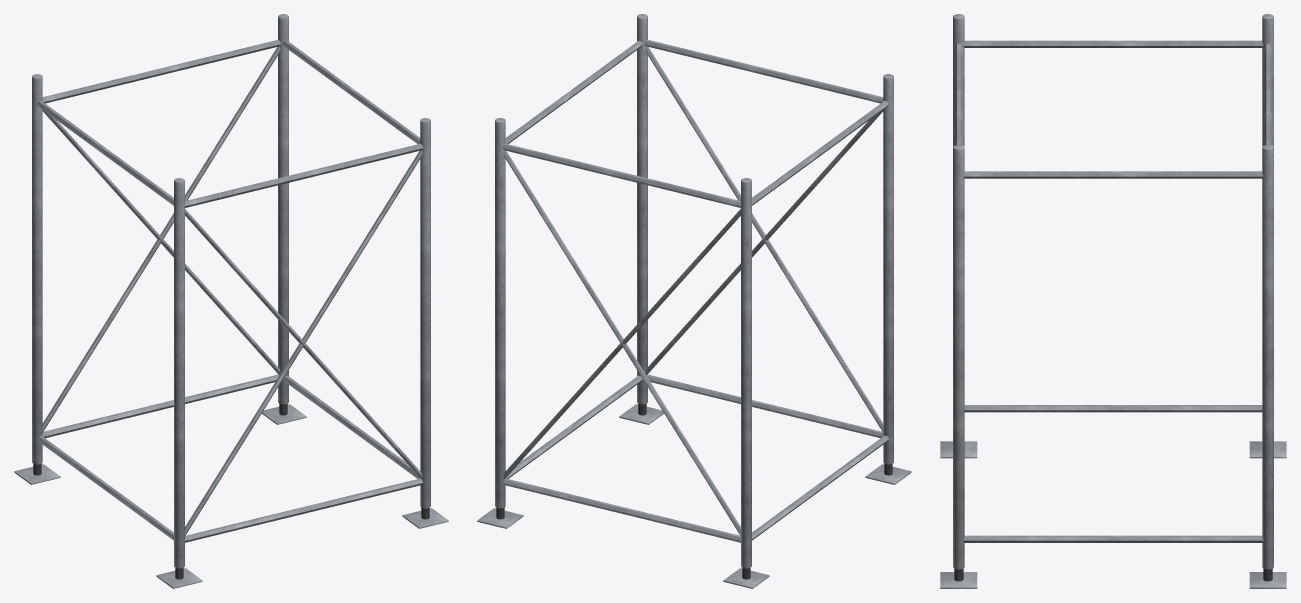
Rendered from EST-ESC-002.glb.
3 renders of one model, left to right at view 1: azimuth 30°, elevation 25°; view 2: azimuth 150°, elevation 25°; view 3: azimuth 270°, elevation 25°, orthographic. The views are drawn at different scales.
Visible parts, largest first — view 1: EST-ESC-002_mont, EST-ESC-002_mont.002, EST-ESC-002_mont.001, EST-ESC-002_mont.003, EST-ESC-002_diag, EST-ESC-002_diag.002, EST-ESC-002_diag.001, EST-ESC-002_trav.005, EST-ESC-002_trav.004, EST-ESC-002_trav, EST-ESC-002_diag.003, EST-ESC-002_trav.001 (+4 smaller); view 2: EST-ESC-002_mont.001, EST-ESC-002_mont.003, EST-ESC-002_mont, EST-ESC-002_mont.002, EST-ESC-002_diag.002, EST-ESC-002_diag, EST-ESC-002_diag.003, EST-ESC-002_trav.004, EST-ESC-002_trav.005, EST-ESC-002_trav.001, EST-ESC-002_diag.001, EST-ESC-002_trav (+4 smaller); view 3: EST-ESC-002_mont.002, EST-ESC-002_mont.003, EST-ESC-002_trav.007, EST-ESC-002_trav.003, EST-ESC-002_trav.006, EST-ESC-002_trav.002, EST-ESC-002_mont, EST-ESC-002_mont.001, EST-ESC-002_trav.004, EST-ESC-002_trav.005, EST-ESC-002_sapata.002, EST-ESC-002_sapata.003 (+2 smaller).
Boxes of the visible parts, left/top/right/bottom form: EST-ESC-002_mont: left=174, top=178, right=184, bottom=568; EST-ESC-002_mont.002: left=420, top=118, right=430, bottom=508; EST-ESC-002_mont.001: left=32, top=74, right=42, bottom=464; EST-ESC-002_mont.003: left=278, top=14, right=288, bottom=404; EST-ESC-002_diag: left=185, top=150, right=422, bottom=535; EST-ESC-002_diag.002: left=42, top=46, right=280, bottom=432; EST-ESC-002_diag.001: left=185, top=209, right=422, bottom=479; EST-ESC-002_trav.005: left=42, top=40, right=281, bottom=103; EST-ESC-002_trav.004: left=184, top=143, right=423, bottom=207; EST-ESC-002_trav: left=184, top=478, right=423, bottom=542; EST-ESC-002_diag.003: left=42, top=110, right=280, bottom=374; EST-ESC-002_trav.001: left=42, top=374, right=279, bottom=438; EST-ESC-002_mont.001: left=741, top=178, right=751, bottom=568; EST-ESC-002_mont.003: left=495, top=118, right=505, bottom=508; EST-ESC-002_mont: left=883, top=74, right=893, bottom=464; EST-ESC-002_mont.002: left=637, top=14, right=647, bottom=404; EST-ESC-002_diag.002: left=503, top=150, right=740, bottom=535; EST-ESC-002_diag: left=645, top=46, right=883, bottom=432; EST-ESC-002_diag.003: left=503, top=209, right=740, bottom=479; EST-ESC-002_trav.004: left=644, top=40, right=883, bottom=103; EST-ESC-002_trav.005: left=502, top=143, right=741, bottom=207; EST-ESC-002_trav.001: left=502, top=478, right=741, bottom=542; EST-ESC-002_diag.001: left=645, top=110, right=883, bottom=374; EST-ESC-002_trav: left=646, top=374, right=883, bottom=438; EST-ESC-002_mont.002: left=953, top=144, right=964, bottom=569; EST-ESC-002_mont.003: left=1262, top=144, right=1273, bottom=569; EST-ESC-002_trav.007: left=963, top=171, right=1263, bottom=178; EST-ESC-002_trav.003: left=963, top=535, right=1263, bottom=542; EST-ESC-002_trav.006: left=963, top=40, right=1263, bottom=47; EST-ESC-002_trav.002: left=964, top=405, right=1262, bottom=412; EST-ESC-002_mont: left=953, top=14, right=964, bottom=146; EST-ESC-002_mont.001: left=1262, top=14, right=1273, bottom=146; EST-ESC-002_trav.004: left=955, top=43, right=962, bottom=144; EST-ESC-002_trav.005: left=1264, top=43, right=1271, bottom=144; EST-ESC-002_sapata.002: left=940, top=572, right=977, bottom=588; EST-ESC-002_sapata.003: left=1249, top=572, right=1286, bottom=588.
Size of the model in its own units: 1.12 by 1.55 by 1.12.
Materials: 2 (2 with a texture image).
